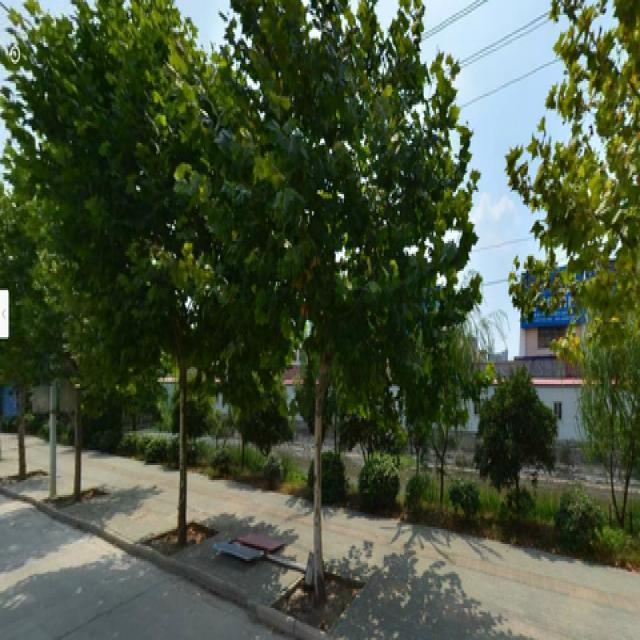meta: (243, 11, 397, 591), (97, 23, 207, 527), (9, 70, 87, 491)
